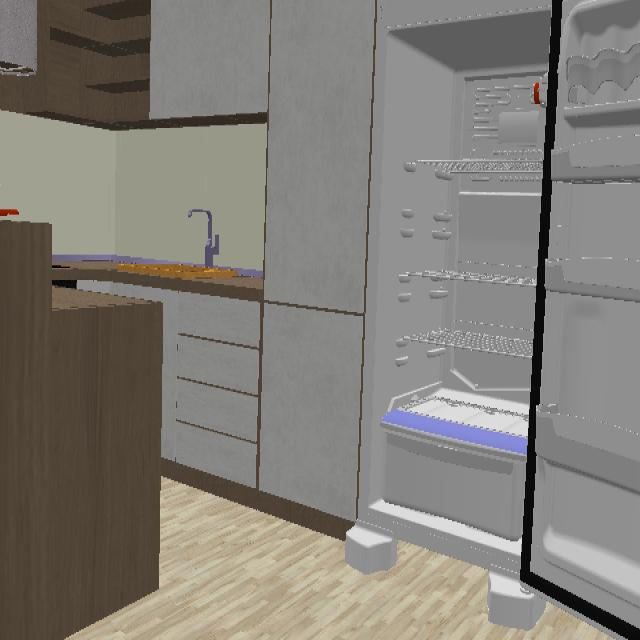countertop: (53, 256, 264, 301)
fridge: (358, 0, 636, 567)
sink: (157, 265, 241, 279)
